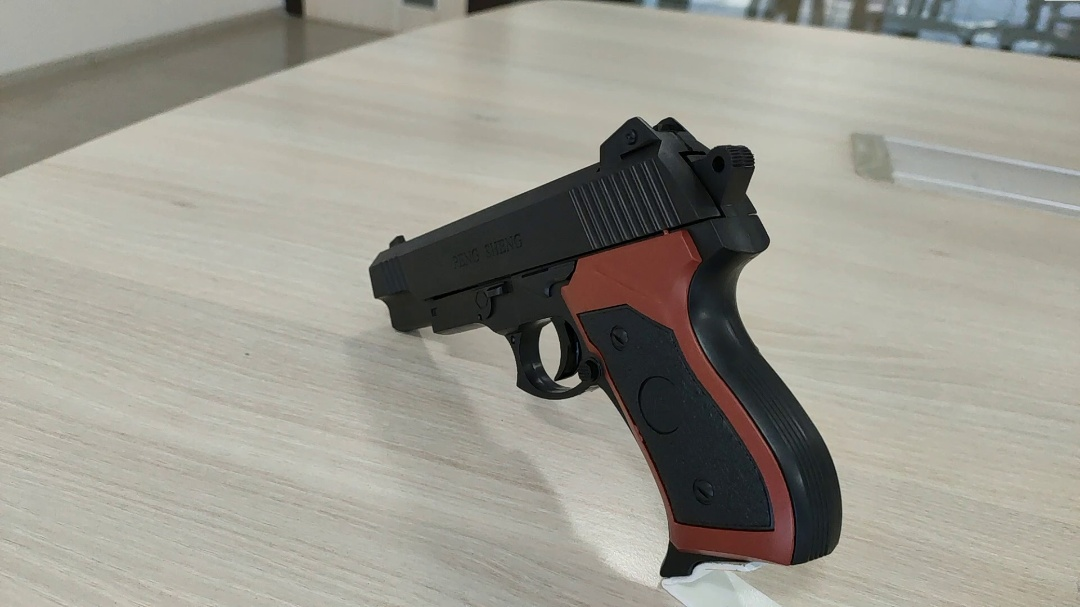gun: (361, 114, 849, 583)
